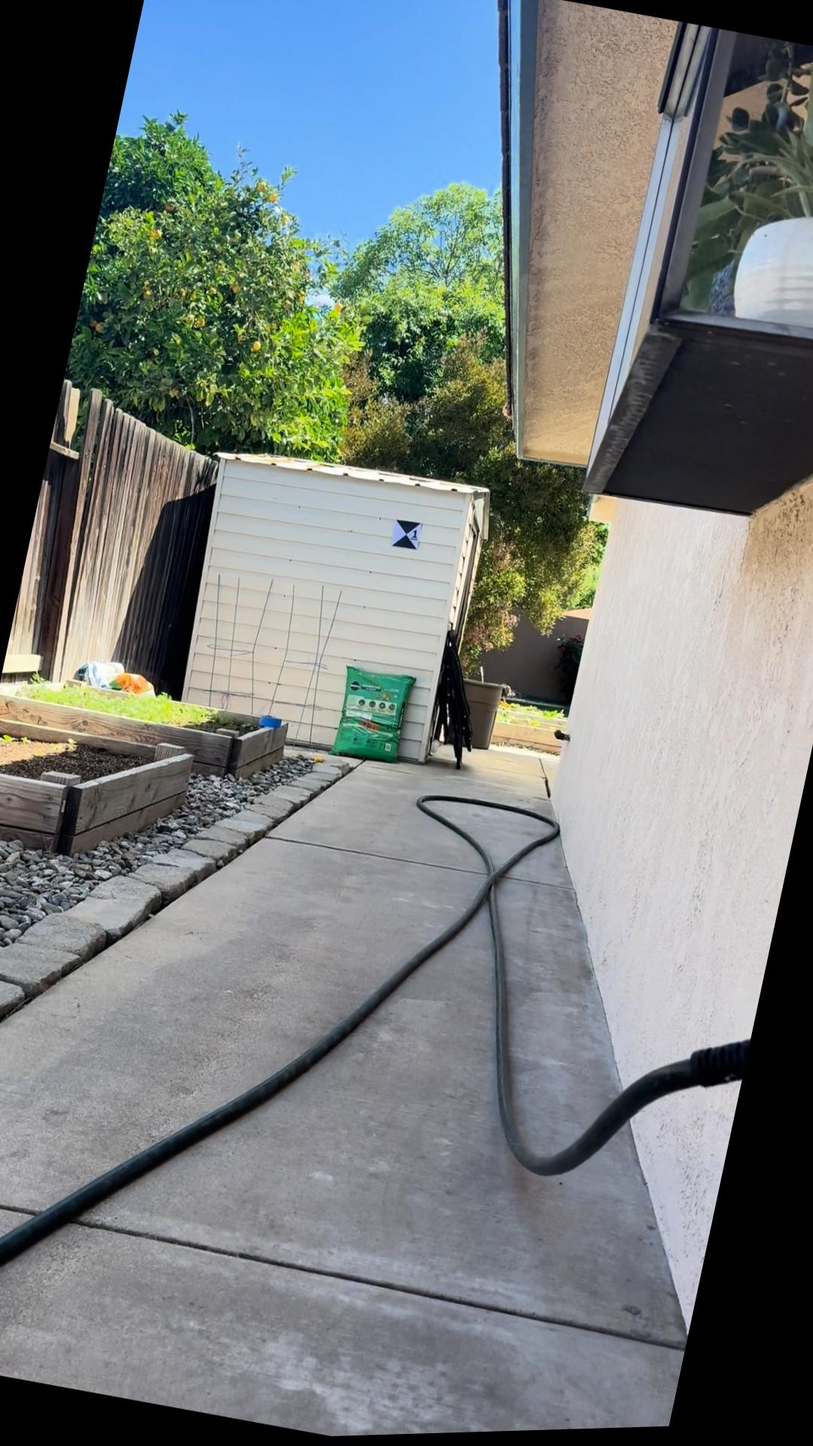target1: (388, 515, 424, 552)
